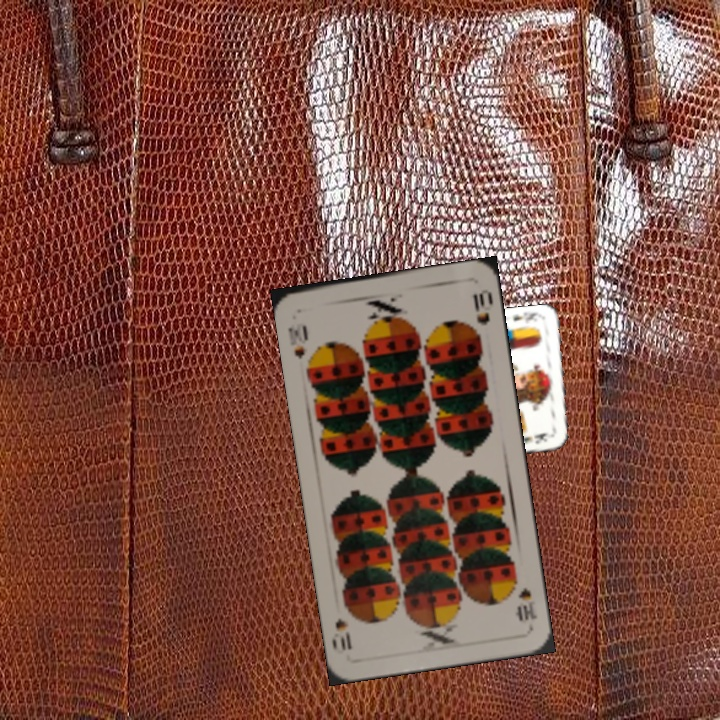EK: (510, 308, 544, 326)
S10: (284, 321, 311, 362), (513, 583, 540, 623)
